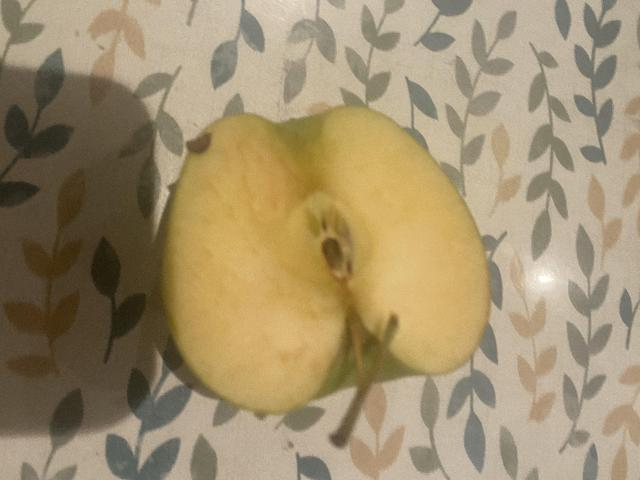Organik: (141, 102, 495, 451)
